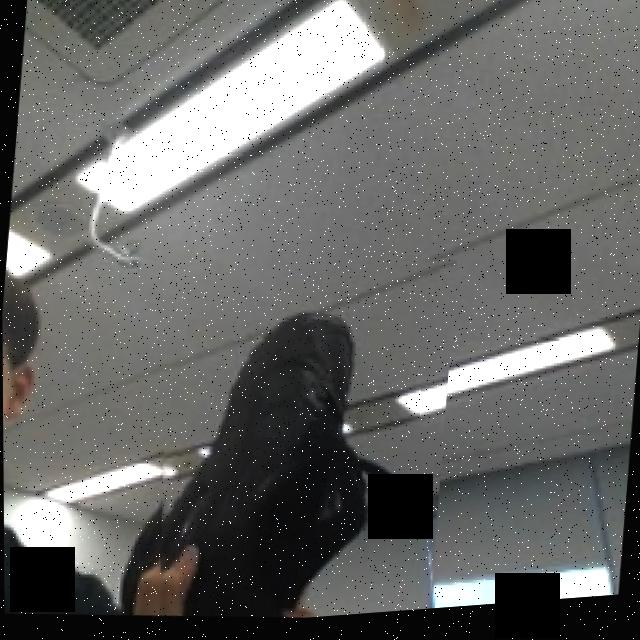shoe: (136, 230, 460, 632)
